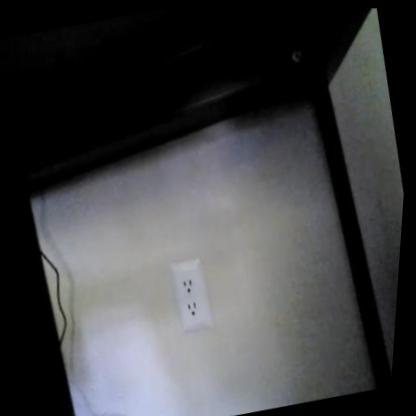OUTLET: (163, 255, 217, 334)
